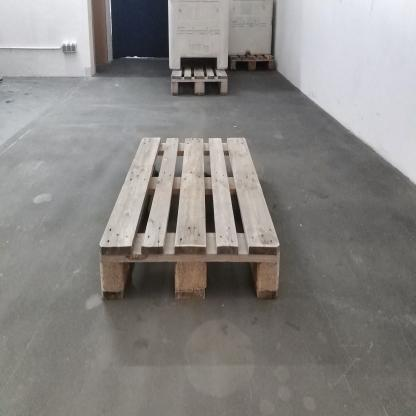BoxFace: (94, 128, 282, 308), (171, 67, 231, 98), (230, 50, 278, 78)
